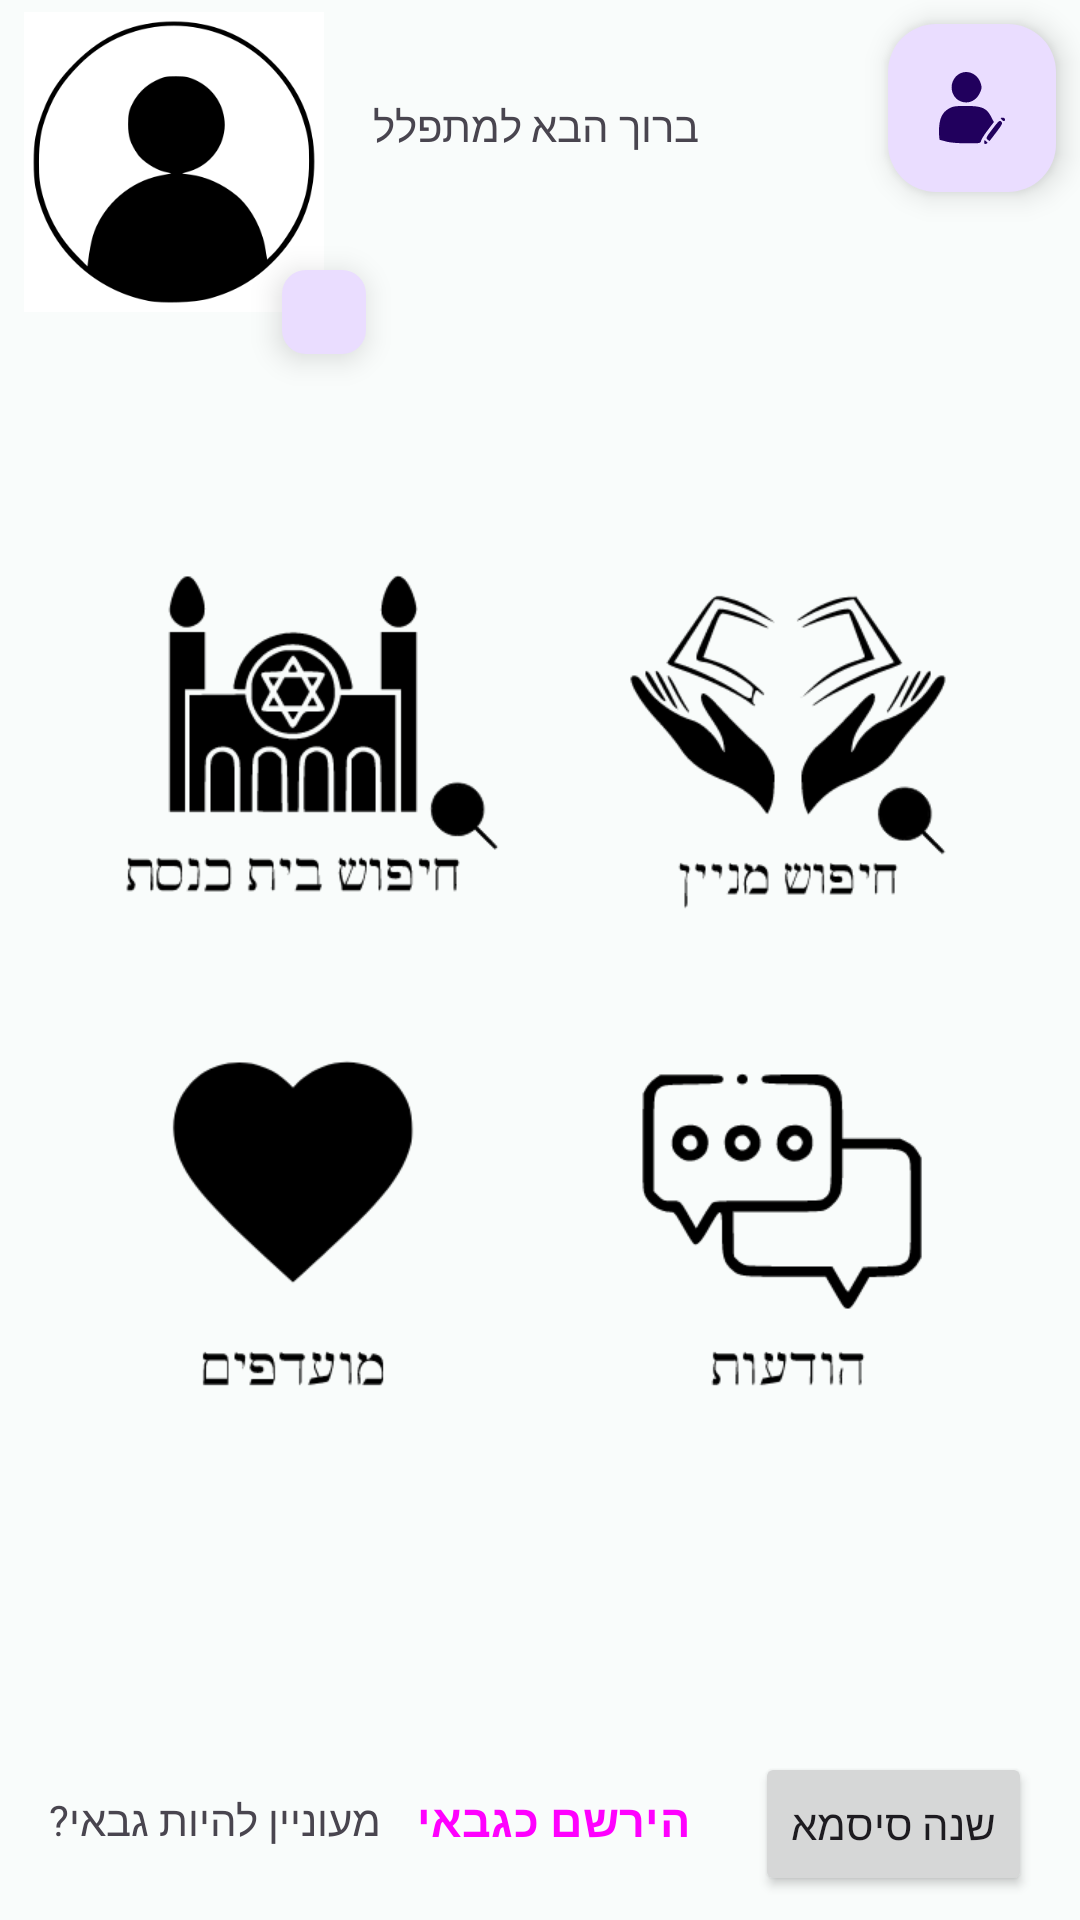

Screen size 1080px x 1920px. Icon name, then its center in pixels as (x,y):
avater: (174,162)
profile edit: (972,108)
